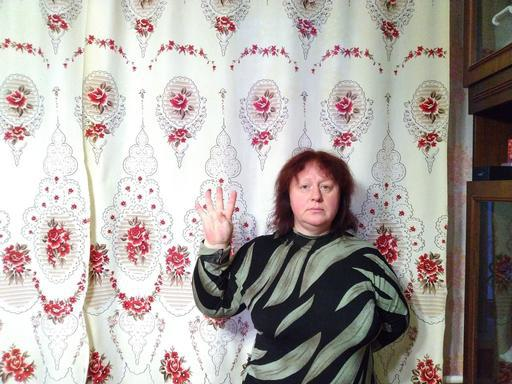four: (193, 183, 241, 249)
